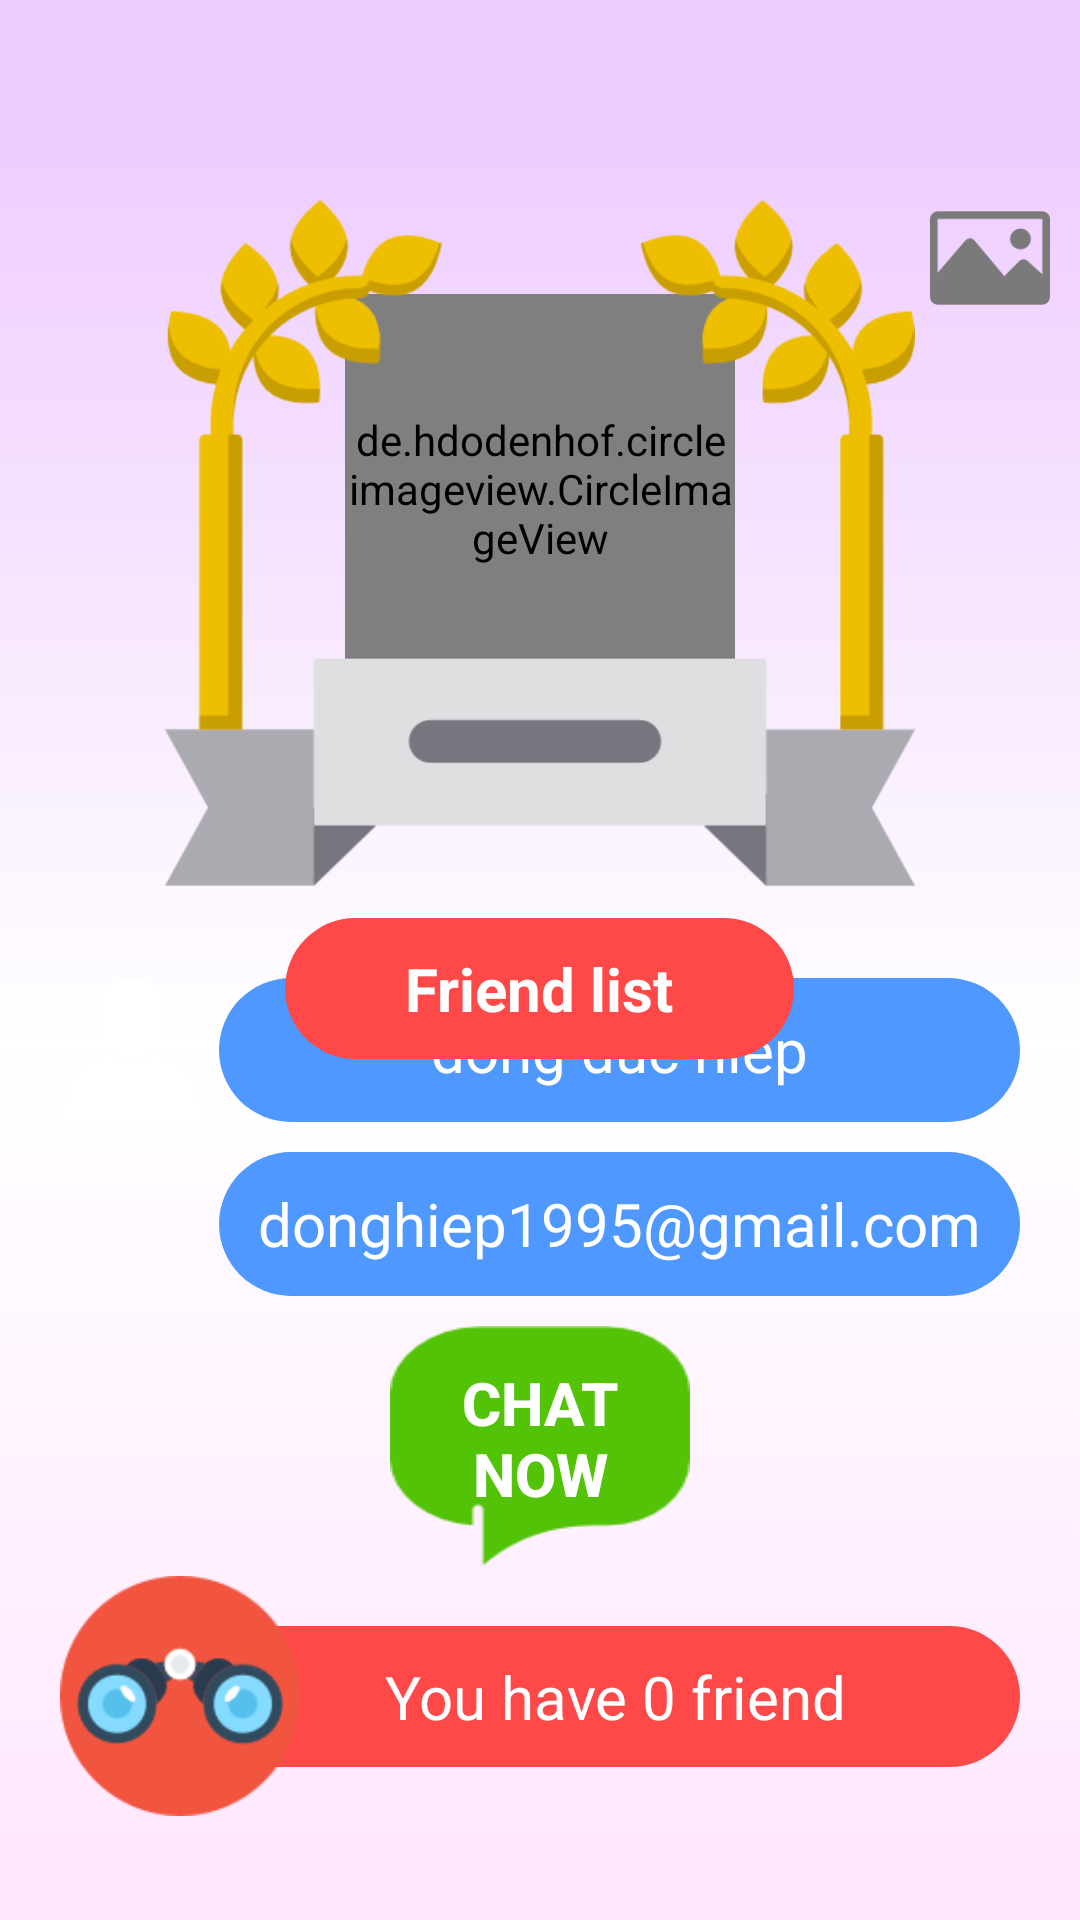

Icons on this 1080*1920 Android screen, each with the point to tap as [x,y]:
find: [180,1696]
